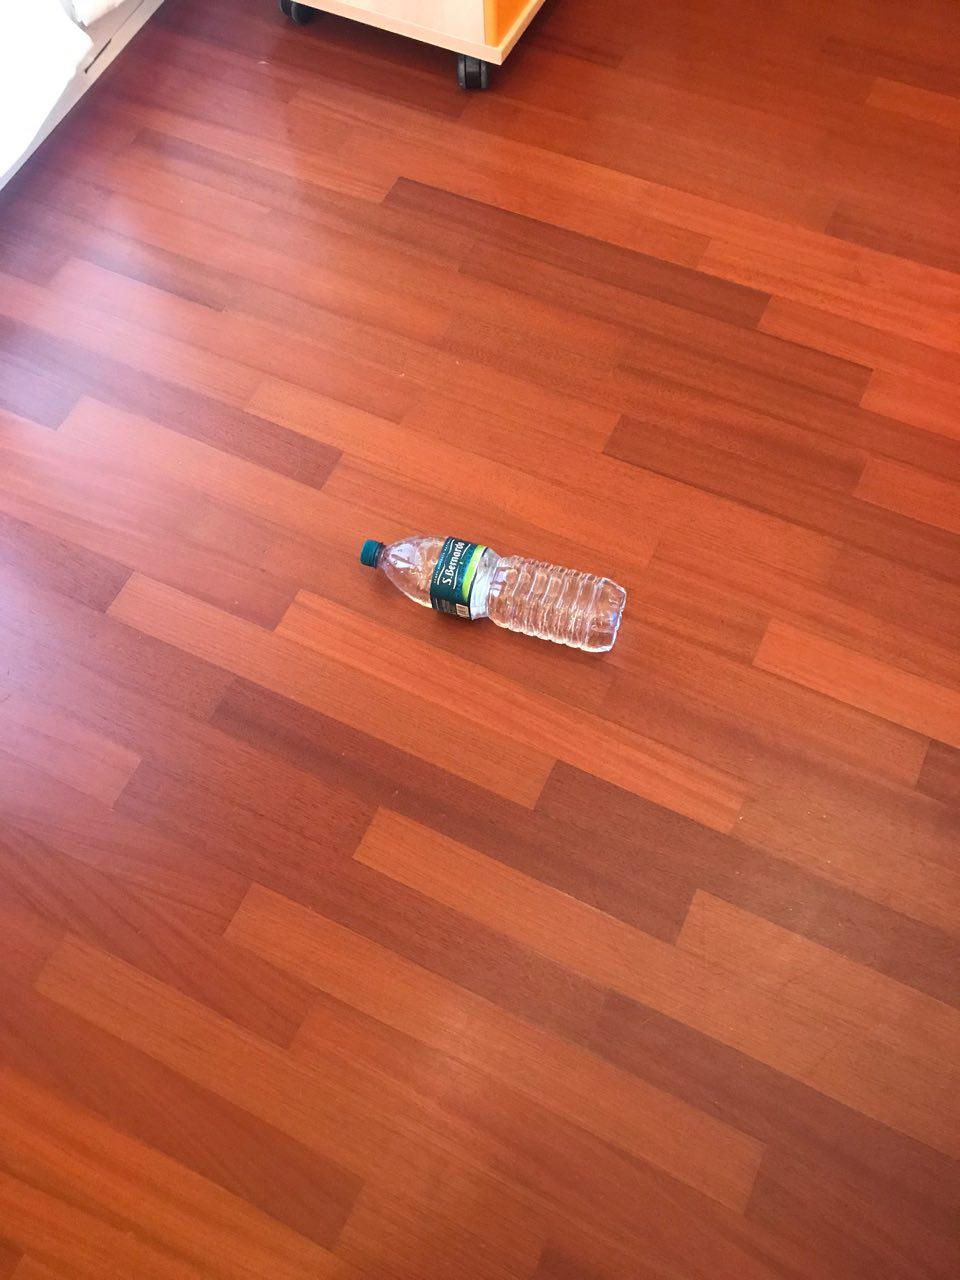san_bernardo: (358, 534, 628, 654)
